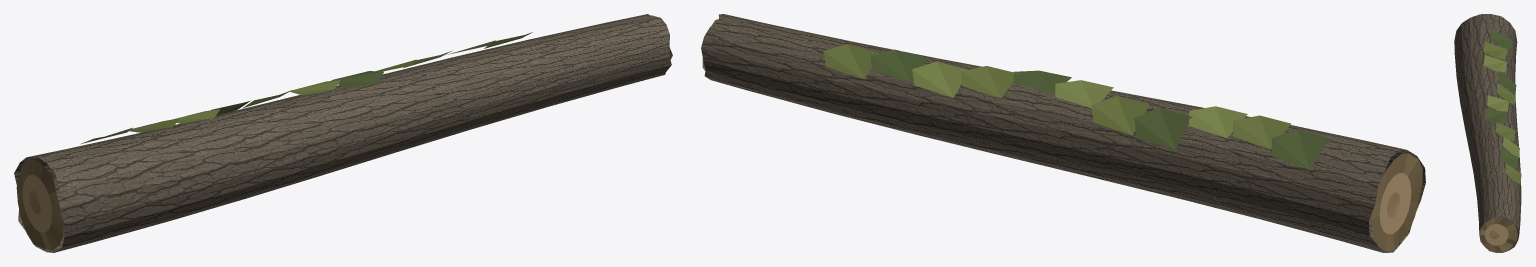
The picture shows the model from 3 angles, left to right: view 1: azimuth 30°, elevation 25°; view 2: azimuth 150°, elevation 25°; view 3: azimuth 270°, elevation 25°; orthographic projection. The views are drawn at different scales.
Parts seen in each view (by area): view 1: fallen-canopy-bough · evaluated preview mesh; view 2: fallen-canopy-bough · evaluated preview mesh; view 3: fallen-canopy-bough · evaluated preview mesh.
Part boxes in pixels (x1,y1,x2,y2): fallen-canopy-bough · evaluated preview mesh: (14,14,672,252); fallen-canopy-bough · evaluated preview mesh: (701,14,1425,252); fallen-canopy-bough · evaluated preview mesh: (1454,14,1521,252).
Bounding box in the file's own units: 16.15 × 2.27 × 2.35.
7 materials, 1 textured.
